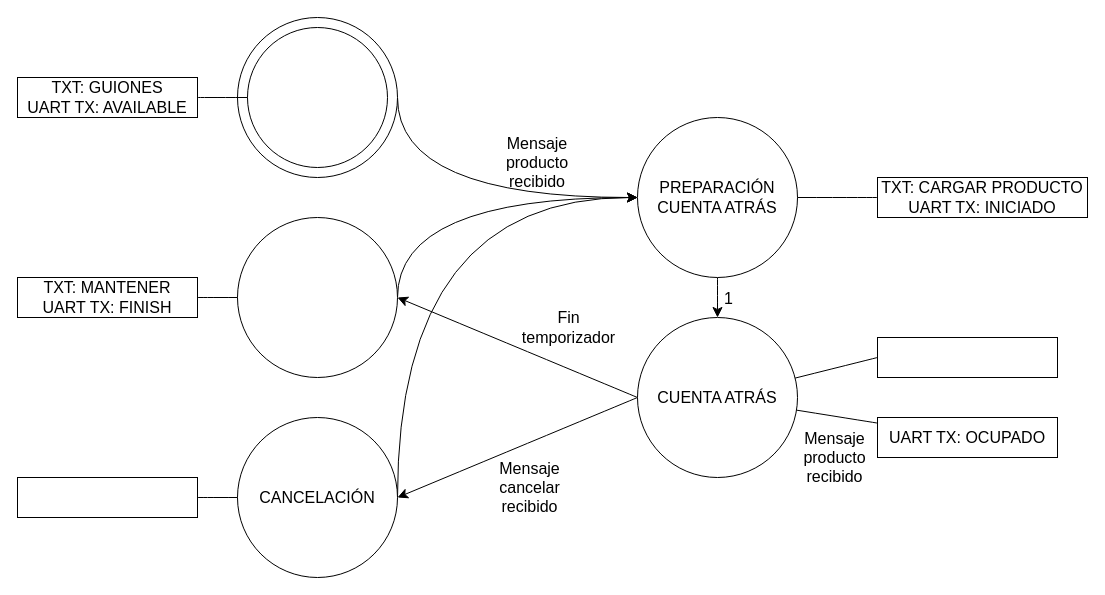
Some shapes in this 1105 by 595 pixel diagram are drawn without their labels. The centre of each missing label's shape, as x and y in pixels:
FINALIZACIÓN NORMAL: pixel 317 297
INICIO: pixel 317 97
TXT: MANTENER: pixel 967 357
TXT: STOP UART TX: CANCELLED: pixel 107 497
